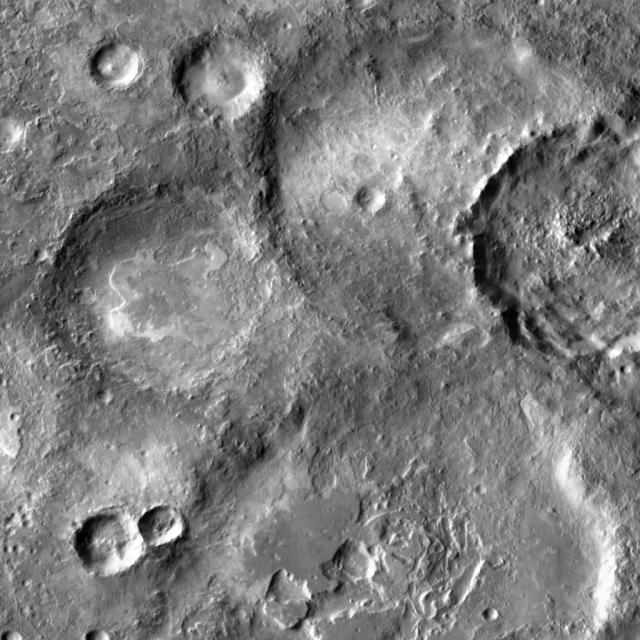crater: (248, 6, 630, 346), (160, 381, 640, 640), (48, 181, 282, 390), (469, 125, 640, 357), (174, 35, 269, 120), (79, 514, 150, 578), (92, 44, 146, 92), (142, 508, 187, 548), (359, 188, 391, 215), (0, 116, 27, 148), (356, 156, 384, 180), (324, 192, 350, 214), (486, 608, 502, 622), (101, 391, 116, 405), (6, 631, 26, 640), (32, 248, 46, 260), (474, 484, 486, 494), (627, 366, 637, 374), (26, 522, 36, 530), (14, 416, 24, 424), (18, 547, 27, 555), (8, 547, 16, 555), (2, 380, 10, 388), (540, 0, 548, 8), (146, 452, 154, 459), (18, 589, 26, 595)
